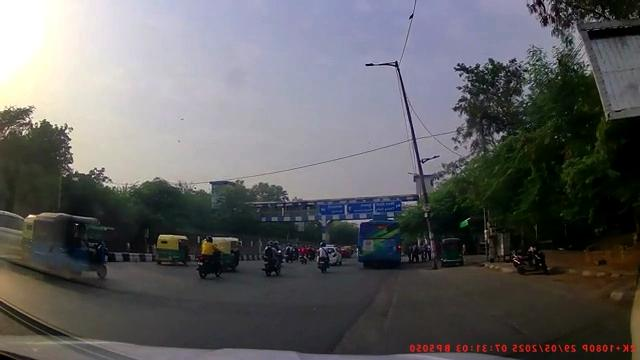passenger_with_helmet: (261, 239, 283, 277)
